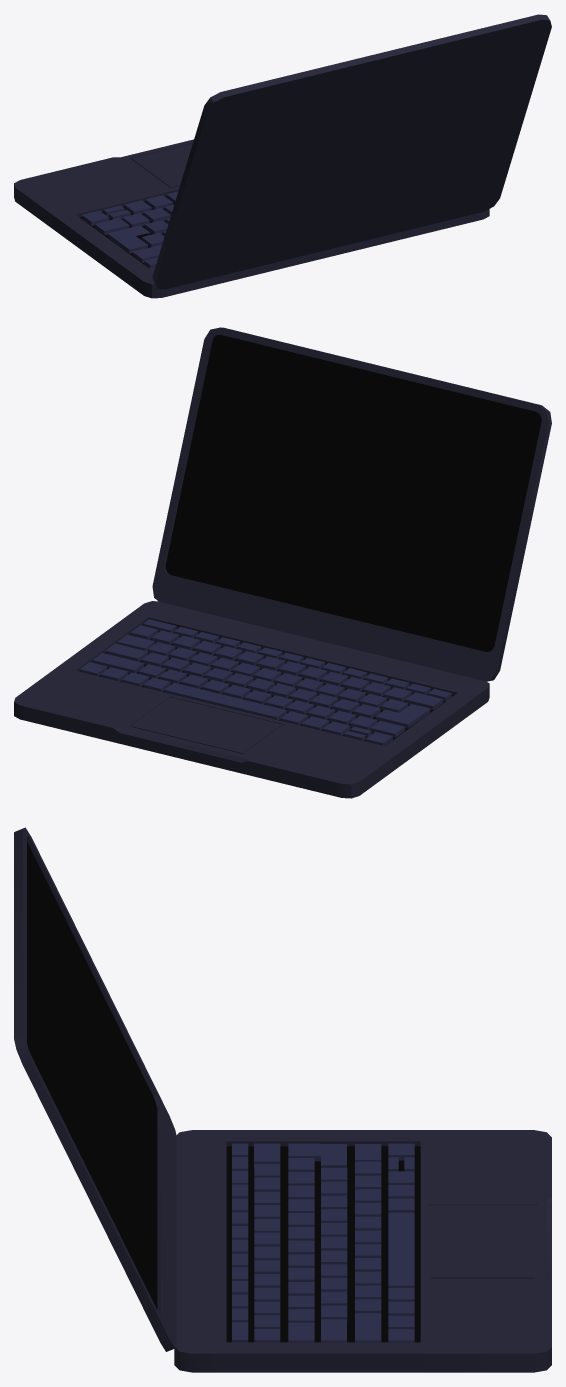
Rendered from laptop 2.fbx.
The picture shows the model from 3 angles, top to bottom: view 1: azimuth 30°, elevation 25°; view 2: azimuth 150°, elevation 25°; view 3: azimuth 270°, elevation 25°; orthographic projection. The views are drawn at different scales.
Parts seen in each view (by area): view 1: Cube.005; view 2: Cube.005; view 3: Cube.005.
Part boxes in pixels (x1,y1,x2,y2): Cube.005: (14, 14, 551, 298); Cube.005: (14, 327, 551, 798); Cube.005: (14, 827, 551, 1372).
Size of the model in its own units: 73.46 by 50.37 by 74.68.
